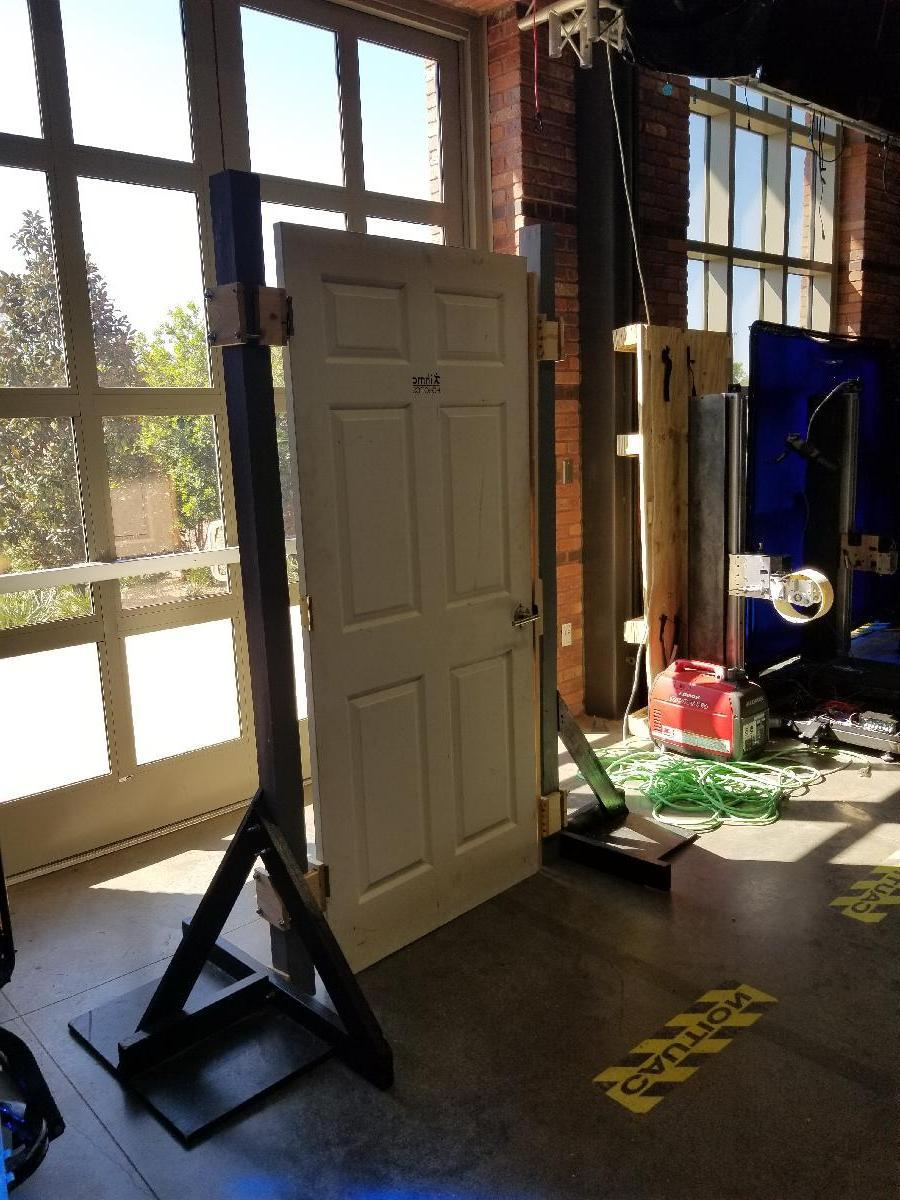door: (296, 248, 534, 941)
handle: (509, 604, 540, 634)
